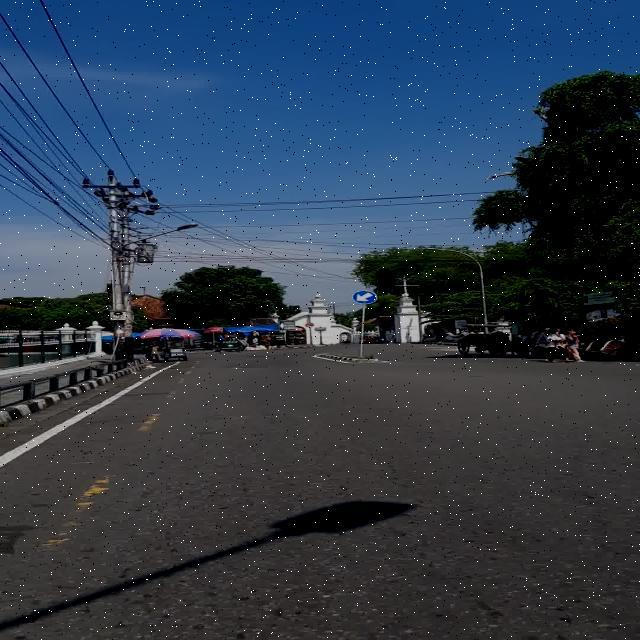Lajur Kiri: (352, 290, 378, 304)
